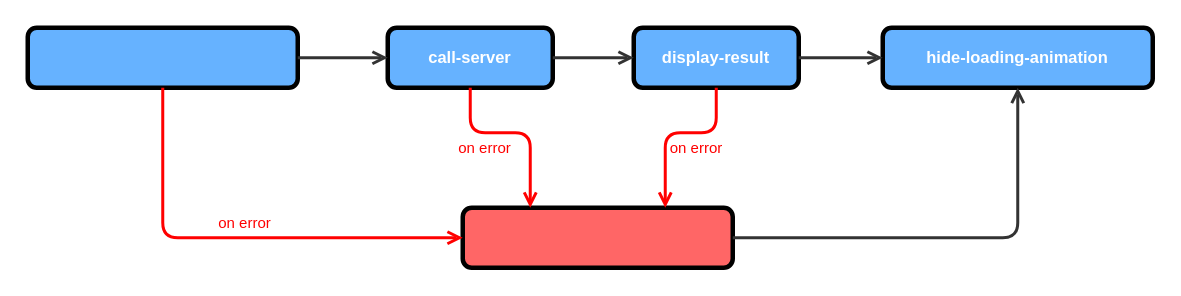
Image size: 1181x296. Some labels were removed from this diagram. The shapes that lost their labels are listed below. From the top down, each one's centre as x and y in pixels, then its label:
At [162,57]: "show-loading-animation".
At [597,237]: "show error".
